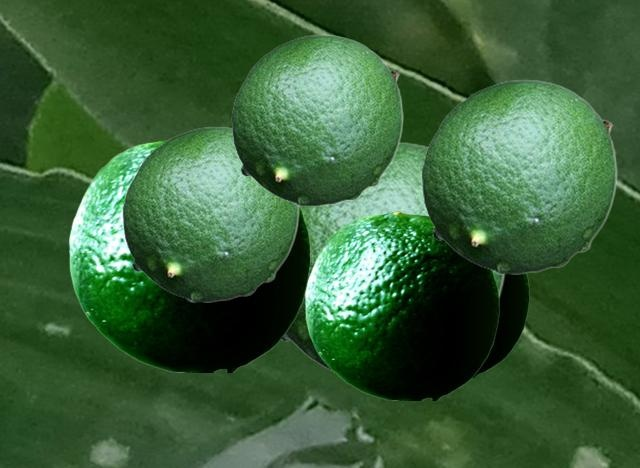calamansi: (69, 137, 309, 371), (280, 141, 505, 377), (421, 79, 616, 273), (305, 210, 498, 399), (122, 126, 298, 301), (231, 34, 402, 205), (475, 274, 528, 376)
